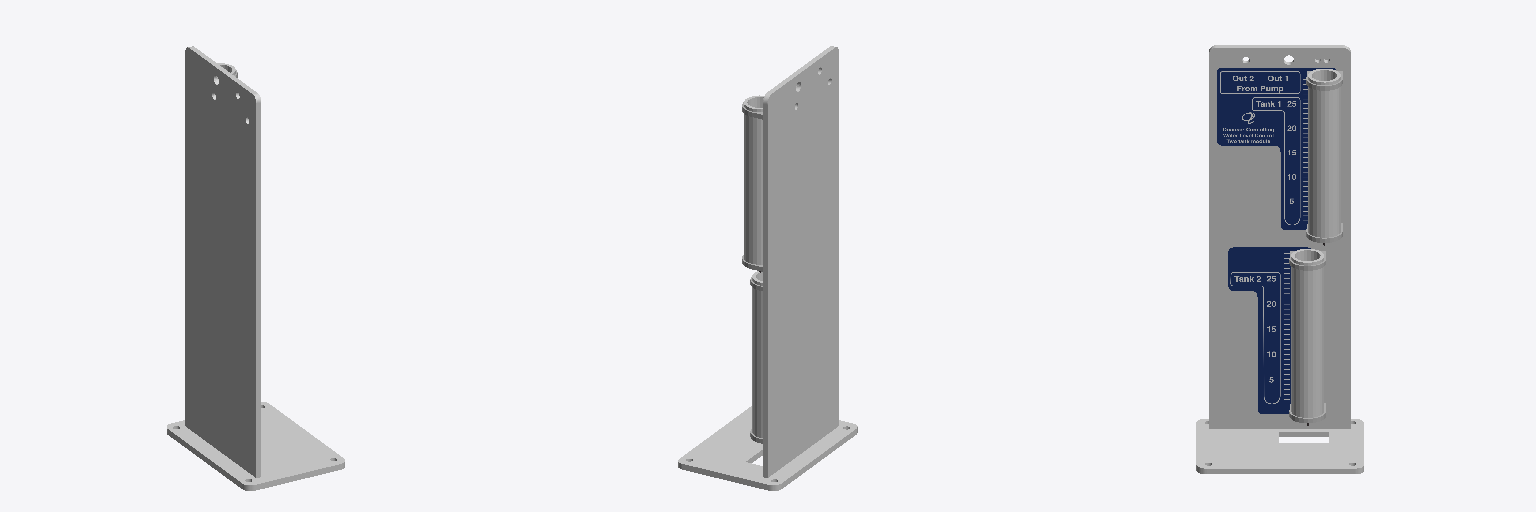
3 views of the same model, side by side, from view 1: azimuth 30°, elevation 25°; view 2: azimuth 150°, elevation 25°; view 3: azimuth 270°, elevation 25° (orthographic).
Parts seen in each view (by area): view 1: Mesh1 Group1 Model, Mesh2 Group2 Model; view 2: Mesh1 Group1 Model, Mesh2 Group2 Model, Mesh7 Group10 Group3 Model, Mesh13 Group20 Group14 Model; view 3: Mesh1 Group1 Model, Mesh15 Group24 Model, Mesh2 Group2 Model, Mesh16 Group25 Model, Mesh13 Group20 Group14 Model, Mesh7 Group10 Group3 Model.
Part boxes in pixels (bbox=[...]): Mesh1 Group1 Model: bbox=[185, 46, 260, 477]; Mesh2 Group2 Model: bbox=[167, 402, 344, 490]; Mesh1 Group1 Model: bbox=[763, 46, 838, 477]; Mesh2 Group2 Model: bbox=[678, 406, 857, 490]; Mesh7 Group10 Group3 Model: bbox=[744, 95, 763, 264]; Mesh13 Group20 Group14 Model: bbox=[752, 271, 762, 437]; Mesh1 Group1 Model: bbox=[1209, 45, 1350, 428]; Mesh15 Group24 Model: bbox=[1217, 68, 1335, 229]; Mesh2 Group2 Model: bbox=[1196, 419, 1363, 473]; Mesh16 Group25 Model: bbox=[1228, 247, 1310, 413]; Mesh13 Group20 Group14 Model: bbox=[1291, 249, 1323, 417]; Mesh7 Group10 Group3 Model: bbox=[1308, 69, 1340, 237].
Size of the model in its own units: 219 by 793 by 312.
Materials: 6 (2 with a texture image).